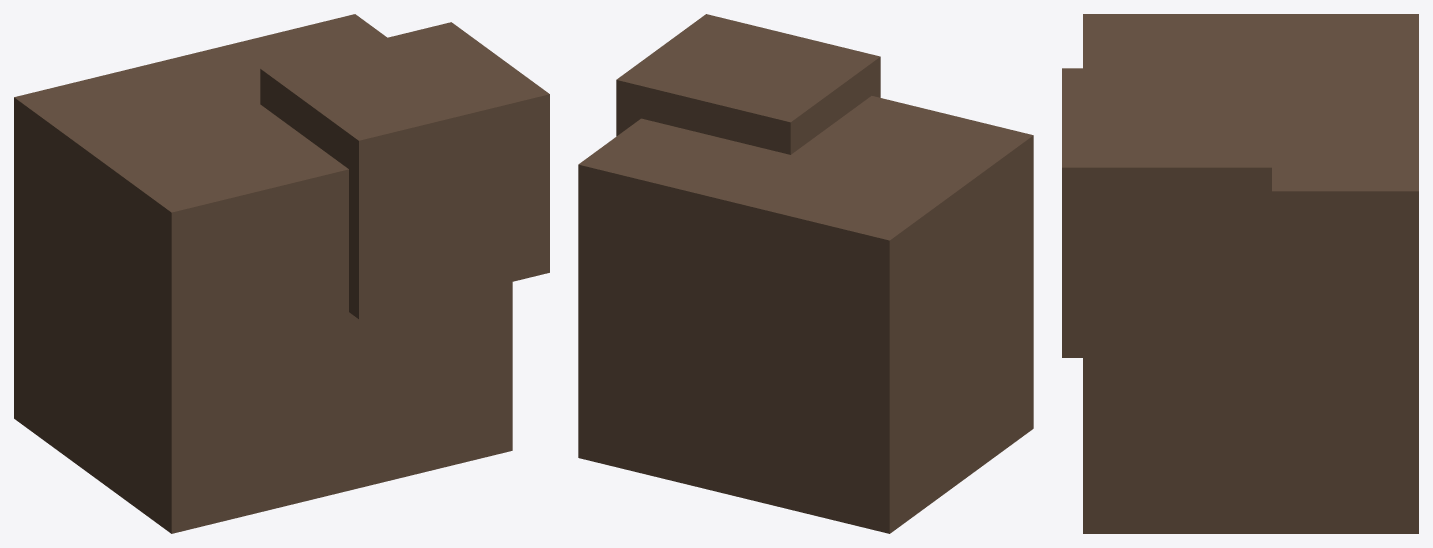
File: void-station__asteroid_v02.obj
3 views of the same model, side by side, from view 1: azimuth 30°, elevation 25°; view 2: azimuth 150°, elevation 25°; view 3: azimuth 270°, elevation 25° (orthographic). The views are drawn at different scales.
Parts seen in each view (by area): view 1: asteroid_v02; view 2: asteroid_v02; view 3: asteroid_v02.
Boxes of the visible parts, box(x1,y1,x2,y2) form: asteroid_v02: box(14, 14, 549, 533); asteroid_v02: box(578, 14, 1033, 533); asteroid_v02: box(1062, 14, 1418, 533).
Bounding box in the file's own units: 0.604 × 0.5592 × 0.4753.
